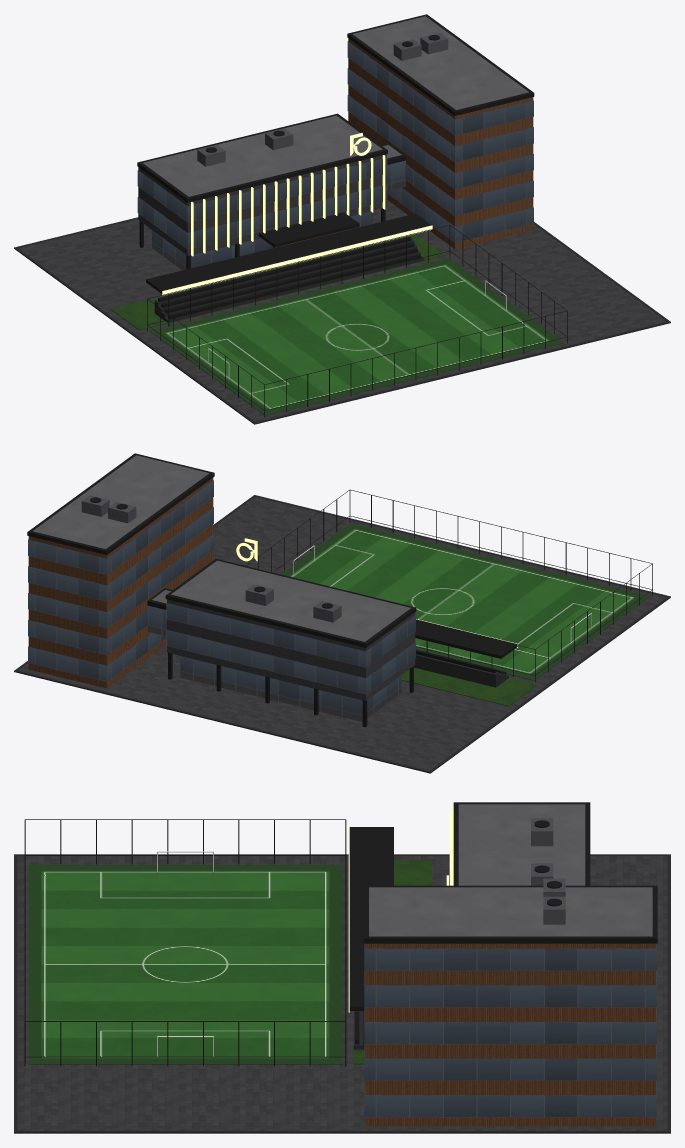
The model's file is academy_L5.glb.
3 renders of one model, top to bottom at view 1: azimuth 30°, elevation 25°; view 2: azimuth 150°, elevation 25°; view 3: azimuth 270°, elevation 25°, orthographic. The views are drawn at different scales.
Parts seen in each view (by area): view 1: turf_acad_academy_L5, paving_academy_L5, emissive_curtain_academy_L5, black_metal_academy_L5, roofing_academy_L5, wood_academy_L5, concrete_dark_academy_L5, emissive_led_academy_L5, cladding_academy_L5, lawn_academy_L5, steel_academy_L5; view 2: emissive_curtain_academy_L5, paving_academy_L5, turf_acad_academy_L5, roofing_academy_L5, black_metal_academy_L5, wood_academy_L5, cladding_academy_L5, concrete_dark_academy_L5, lawn_academy_L5, steel_academy_L5; view 3: turf_acad_academy_L5, paving_academy_L5, emissive_curtain_academy_L5, roofing_academy_L5, wood_academy_L5, black_metal_academy_L5, concrete_dark_academy_L5, steel_academy_L5, lawn_academy_L5, emissive_led_academy_L5.
Boxes of the visible parts, x1,y1,x2,y2 form: turf_acad_academy_L5: (150, 258, 563, 415); paving_academy_L5: (18, 200, 666, 421); emissive_curtain_academy_L5: (137, 41, 533, 270); black_metal_academy_L5: (137, 14, 567, 417); roofing_academy_L5: (143, 16, 528, 196); wood_academy_L5: (273, 38, 533, 267); concrete_dark_academy_L5: (14, 217, 670, 424); emissive_led_academy_L5: (162, 133, 432, 295); cladding_academy_L5: (138, 154, 386, 255); lawn_academy_L5: (110, 234, 444, 330); steel_academy_L5: (197, 33, 448, 166); emissive_curtain_academy_L5: (28, 480, 415, 721); paving_academy_L5: (18, 496, 666, 770); turf_acad_academy_L5: (281, 523, 648, 680); roofing_academy_L5: (32, 455, 410, 641); black_metal_academy_L5: (27, 453, 652, 727); wood_academy_L5: (28, 478, 500, 688); cladding_academy_L5: (167, 599, 415, 700); concrete_dark_academy_L5: (14, 495, 670, 773); lawn_academy_L5: (401, 667, 537, 706); steel_academy_L5: (81, 495, 341, 622); turf_acad_academy_L5: (28, 865, 342, 1064); paving_academy_L5: (17, 856, 667, 1130); emissive_curtain_academy_L5: (364, 943, 656, 1117); roofing_academy_L5: (369, 804, 652, 936); wood_academy_L5: (350, 943, 656, 1126); black_metal_academy_L5: (24, 802, 657, 1066); concrete_dark_academy_L5: (14, 854, 670, 1133); steel_academy_L5: (531, 818, 565, 924); lawn_academy_L5: (353, 860, 432, 1064); emissive_led_academy_L5: (348, 810, 453, 1012).
Size of the model in its own units: 58.6 by 20.24 by 58.6.
12 materials, 7 textured.
